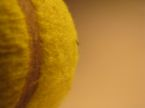tennis ball: (1, 1, 83, 107)
